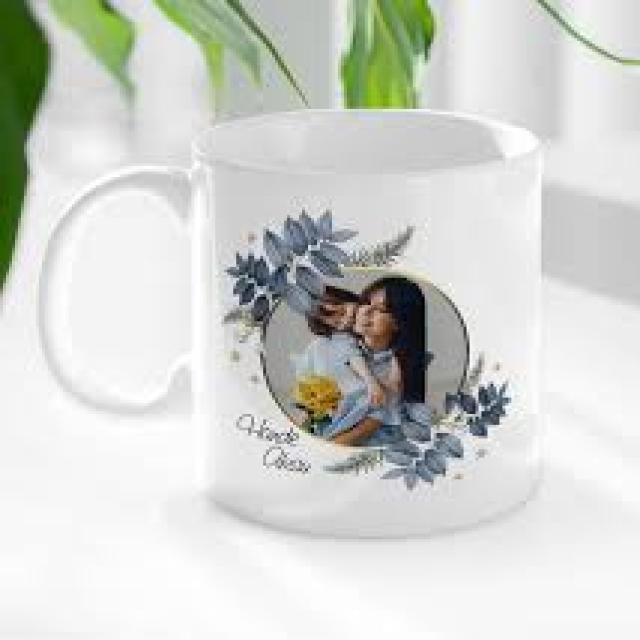taza: (38, 107, 544, 536)
